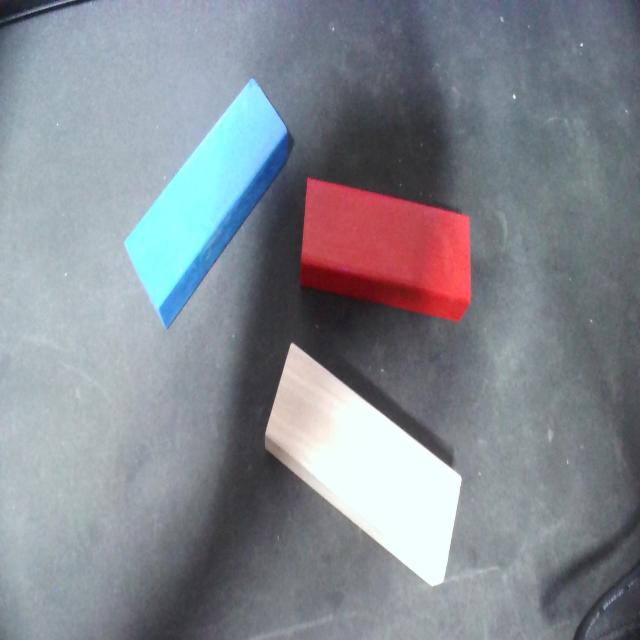blue: (95, 71, 314, 331)
red: (281, 176, 489, 328)
wood: (226, 341, 502, 591)
